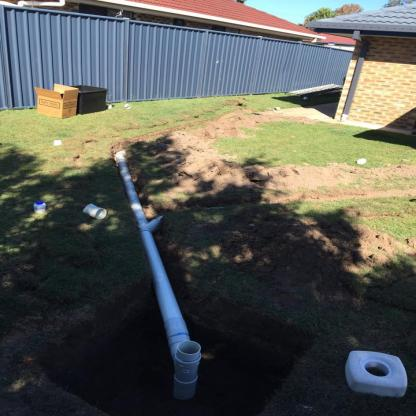PVC: (114, 146, 203, 402), (80, 202, 111, 222)
